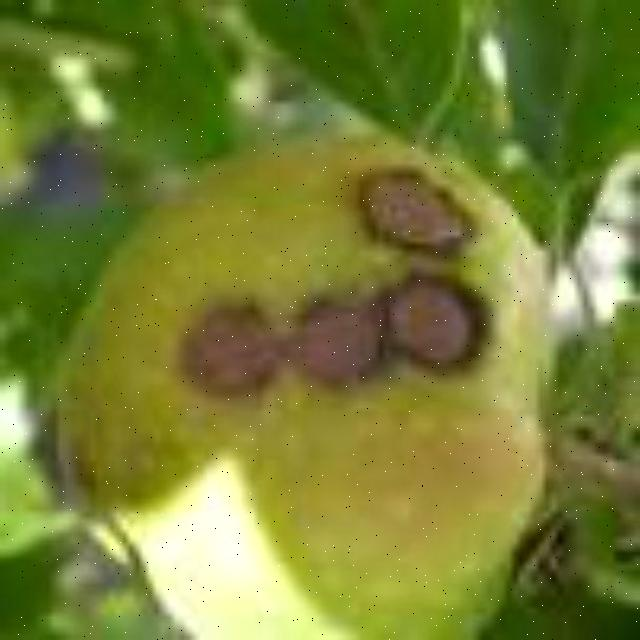SCAB: (89, 126, 582, 614)
